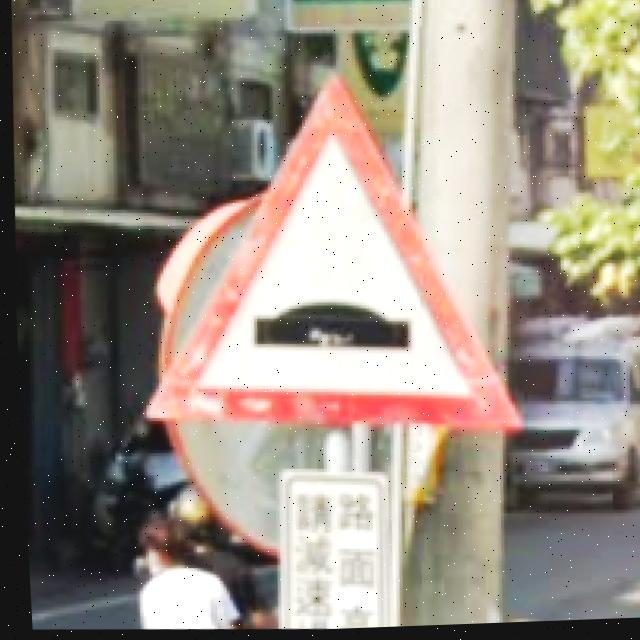hump: (142, 82, 517, 430)
